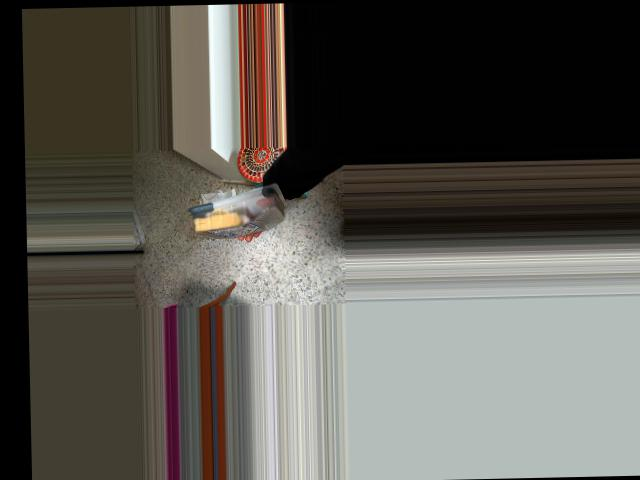cheese: (188, 179, 284, 240)
